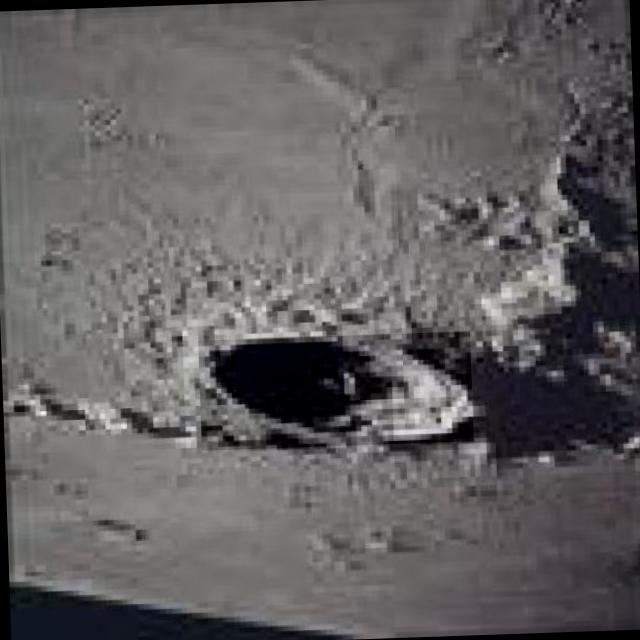crater: (197, 330, 473, 450)
